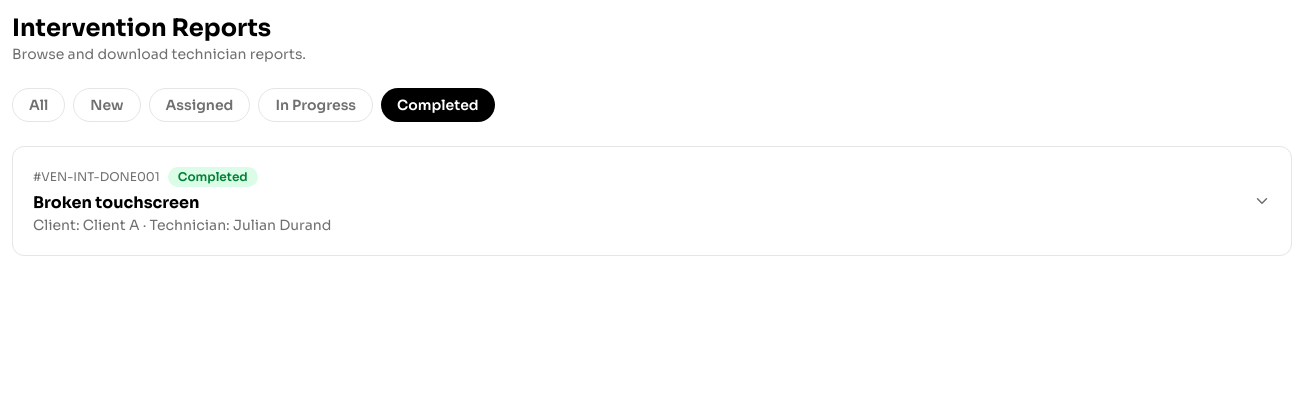
Test: Admin Reports › expands an intervention and fetches its reports
Click the heading "Broken touchscreen" at (116, 202), box left=33, top=192, right=199, bottom=213
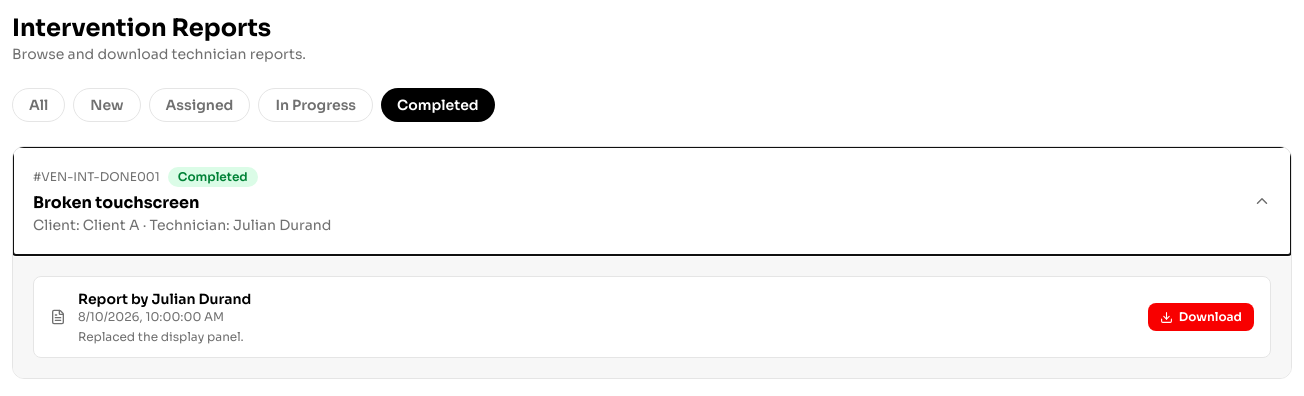
Result: the text "Report by Julian Durand" is shown at left=78, top=289, right=251, bottom=309
Result: the text "Replaced the display panel." is shown at left=78, top=329, right=251, bottom=345
